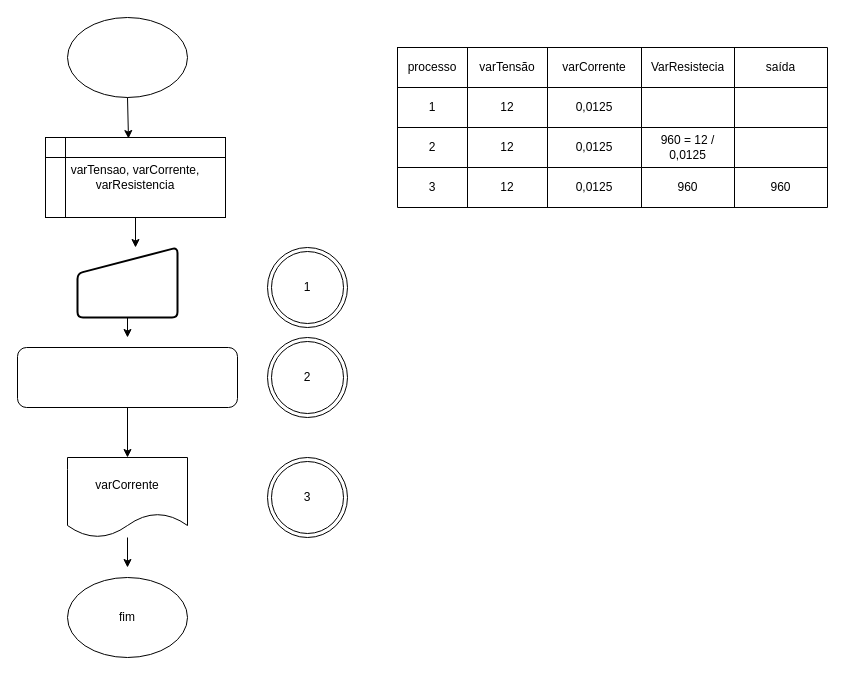
Some shapes in this 845 by 675 pixel diagram are drawn without their labels. The box of each missing label's shape, as (x1, y1, x2, y2) in pixels:
início: (66, 16, 188, 98)
varResistencia = VartTensão / varCorrente: (16, 346, 238, 408)
varTensao, varCorrente: (76, 246, 178, 318)
